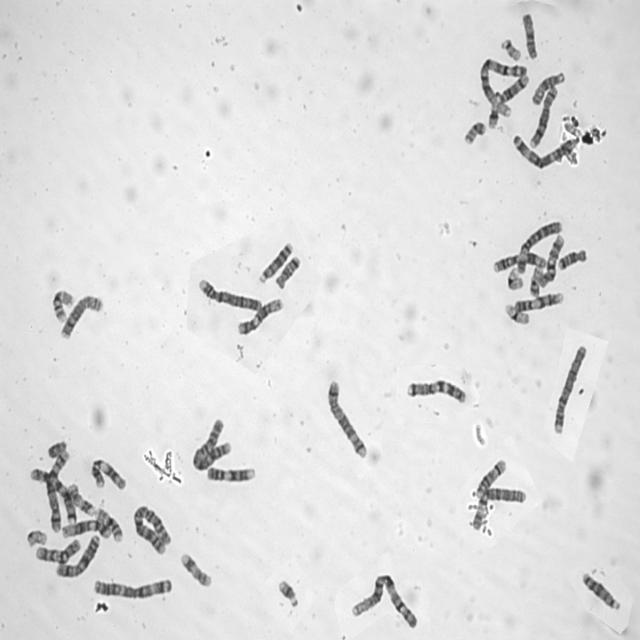A1: (348, 568, 420, 630), (477, 52, 529, 118)
A2: (190, 416, 231, 472), (131, 501, 172, 556)
A3: (510, 130, 580, 171), (91, 574, 173, 602)
B4: (551, 342, 588, 436), (196, 275, 263, 314)
B5: (324, 376, 368, 460), (46, 444, 70, 534)
C10: (536, 232, 566, 290), (33, 536, 81, 564)
C11: (89, 454, 127, 492), (491, 249, 547, 274)
C12: (235, 295, 285, 336), (59, 517, 113, 539)
C6: (514, 217, 564, 275), (469, 482, 526, 532)
C7: (28, 465, 78, 524), (403, 376, 468, 404)
C8: (59, 291, 104, 341), (528, 83, 560, 151)
C9: (512, 289, 564, 314), (204, 464, 256, 484)
D13: (579, 567, 621, 612), (256, 238, 295, 284)
D14: (473, 456, 507, 498), (497, 73, 532, 104)
D15: (529, 68, 567, 107), (520, 10, 538, 61)
E16: (93, 504, 124, 544), (50, 286, 75, 324)
E17: (179, 549, 213, 589), (65, 481, 96, 517)
E18: (273, 252, 303, 290), (556, 247, 588, 272)
F19: (503, 300, 531, 328), (505, 265, 524, 291)
F20: (461, 118, 488, 144), (527, 260, 545, 298)
G21: (276, 576, 301, 610), (489, 98, 502, 131)
G22: (499, 36, 523, 62), (24, 527, 50, 547)
X: (53, 532, 100, 580)
Y: (46, 438, 68, 458)
